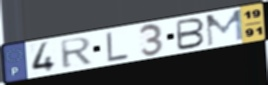3: (137, 22, 164, 59)
4: (30, 40, 58, 74)
B: (175, 17, 207, 52)
L: (105, 31, 131, 63)
M: (204, 8, 246, 48)
R: (58, 36, 94, 70)
